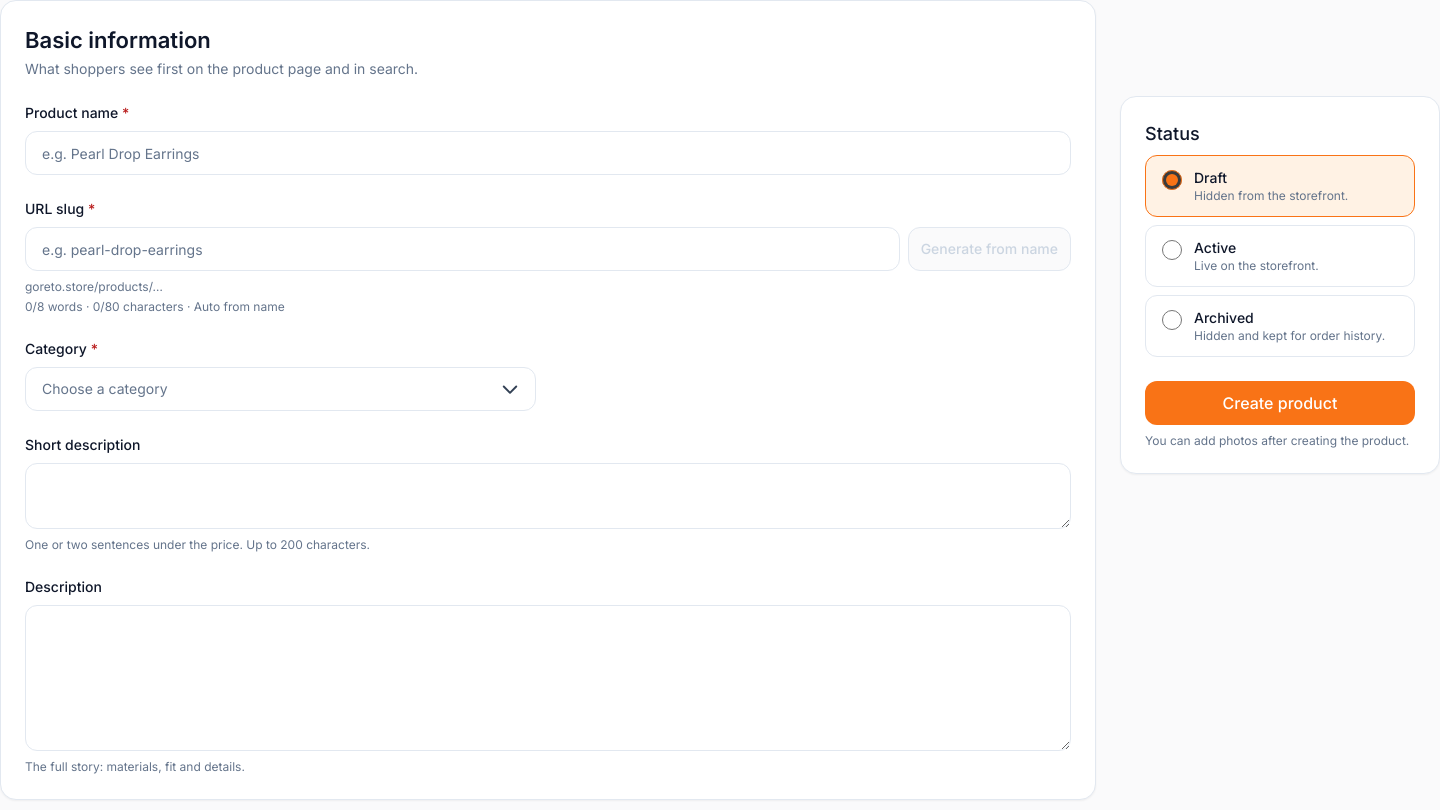
Scenario: ProductForm › caps the auto slug at 8 words and shows the counts
Type "Hand Woven Dhaka Topi With Silver Pin For Festival Wear" into the field labelled "Product name *" at [548, 153], box [25,131,1071,175]
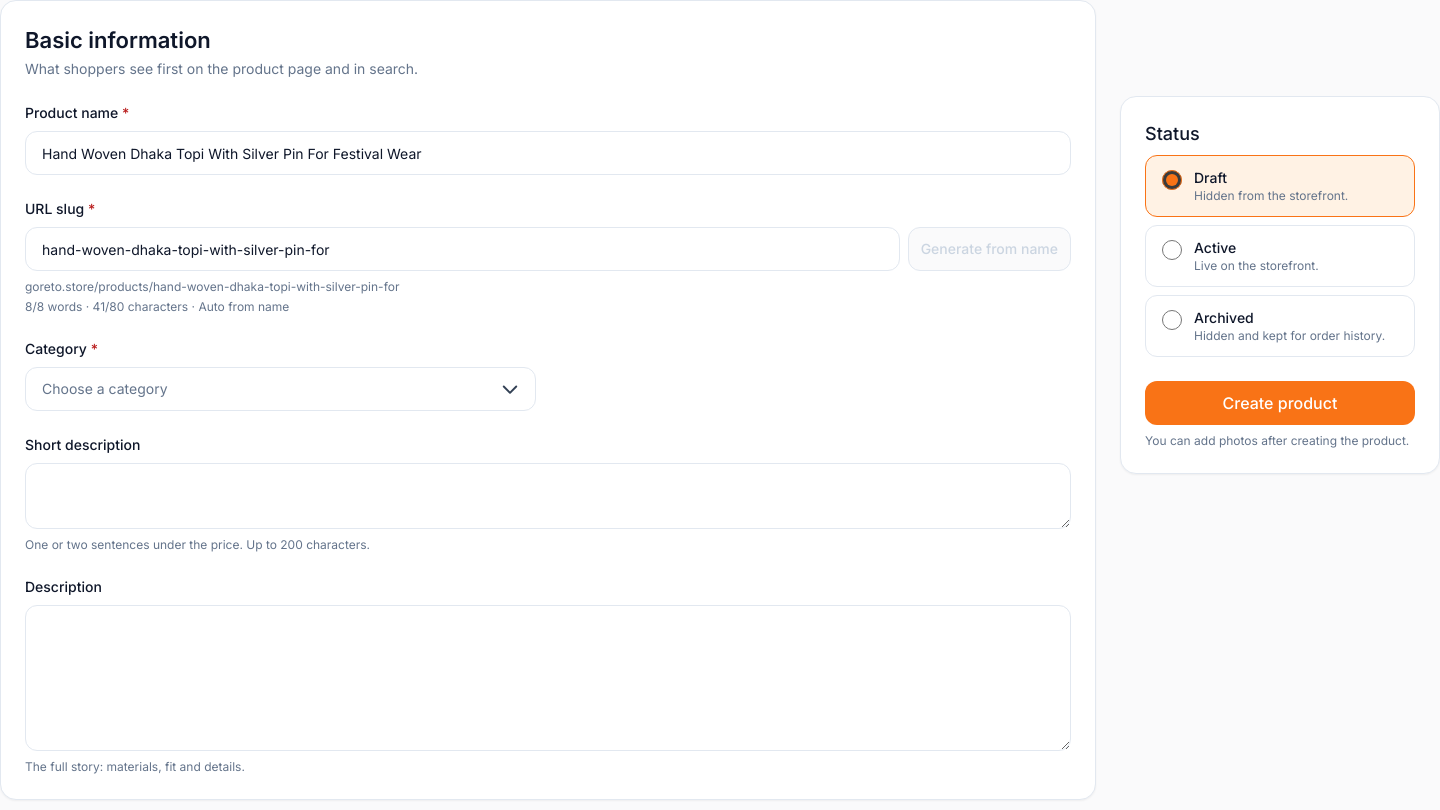
Expected: the text "8/8 words · 41/80 characters · Auto from name" is shown, [25,299,289,314]
Result: the field labelled "URL slug *" holds "hand-woven-dhaka-topi-with-silver-pin-for" at [25,227,900,271]
Result: the text "8/8 words" is shown at [25,299,82,314]
